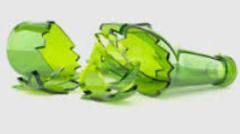glass: (81, 19, 238, 105), (8, 19, 80, 96)
